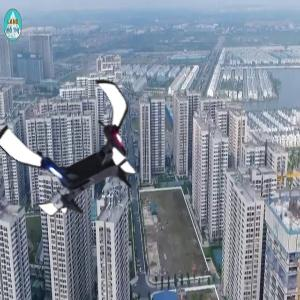drone: (6, 74, 155, 223)
